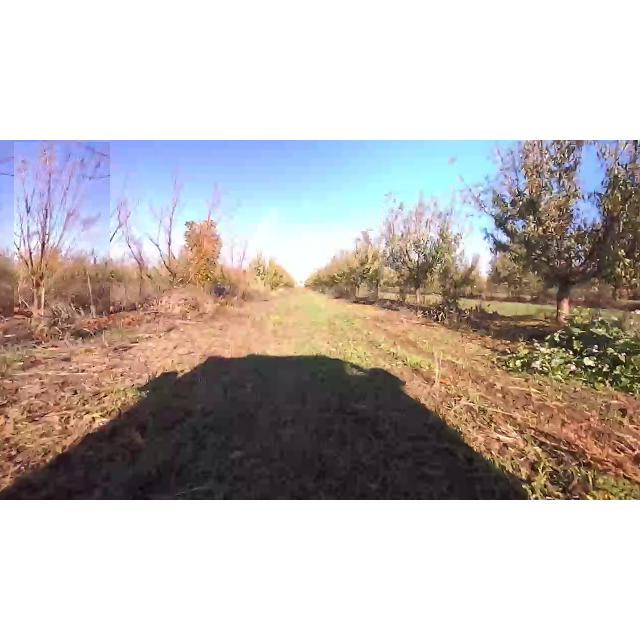direk: (452, 140, 640, 324), (14, 142, 110, 318), (382, 207, 446, 311), (142, 188, 188, 288), (180, 213, 228, 291), (124, 230, 148, 302), (356, 231, 378, 301)
